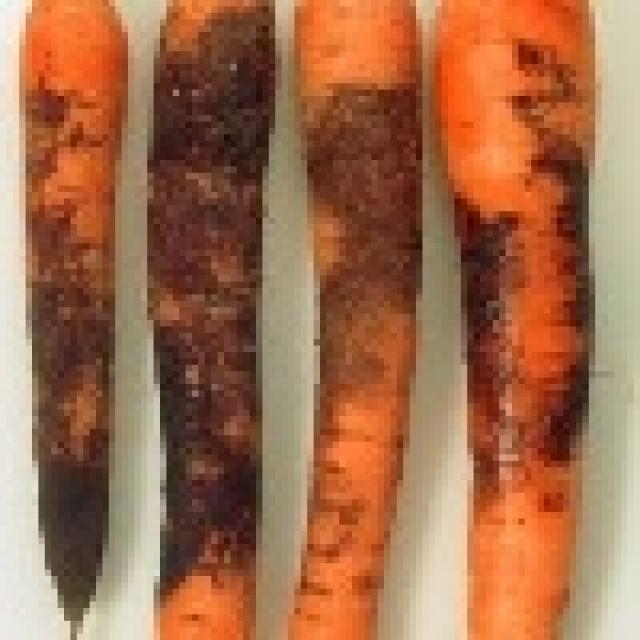Stale_Carrot: (438, 0, 586, 639), (291, 0, 415, 639), (150, 0, 271, 639)
